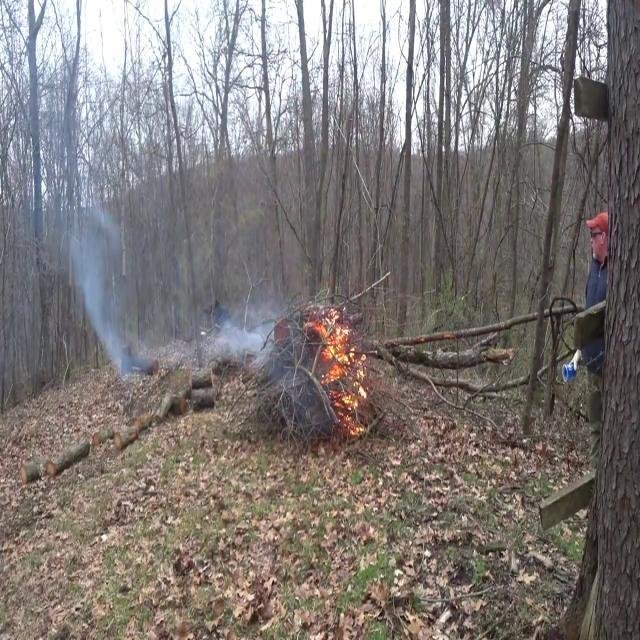Fire: (306, 296, 372, 426)
Smoke: (59, 194, 130, 379), (215, 313, 269, 368)
